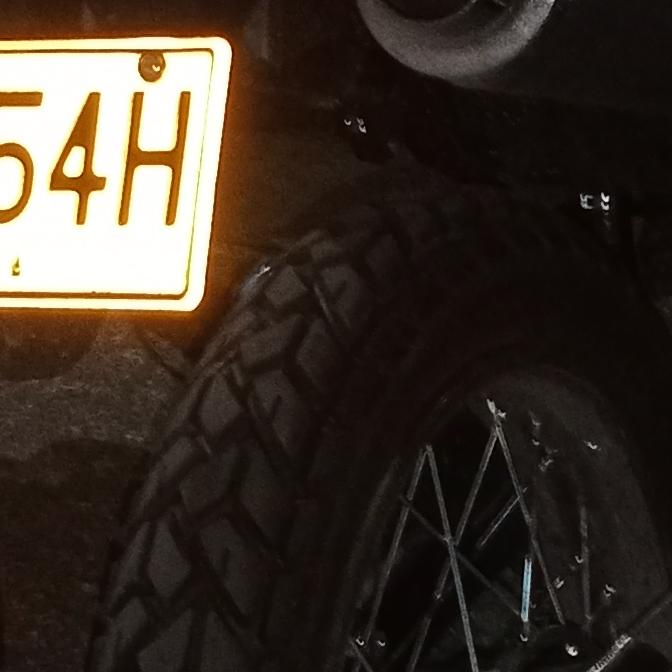plates: (0, 37, 233, 306)
